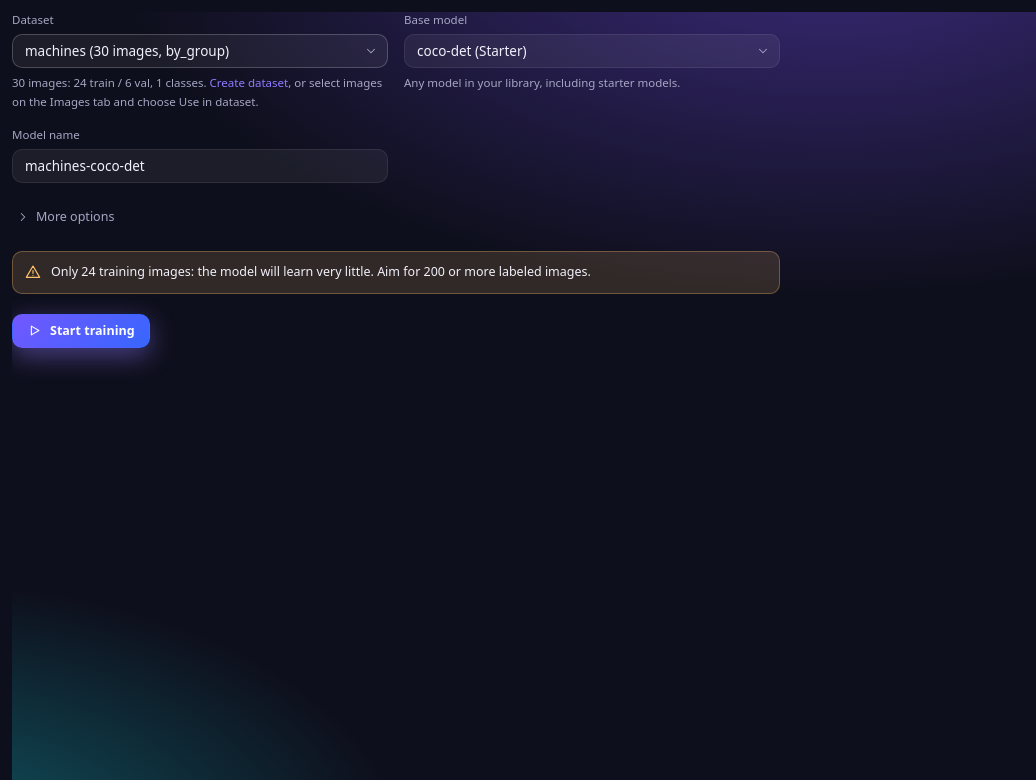
Test: TrainForm › lists only base models of the dataset's task
The width and height of the screenshot is (1036, 780).
Expected: the option "coco-seg" is not shown
Select "cracks (30 images, by_group)" in the dropdown labelled "Dataset" at (200, 51), box [12,34,388,68]
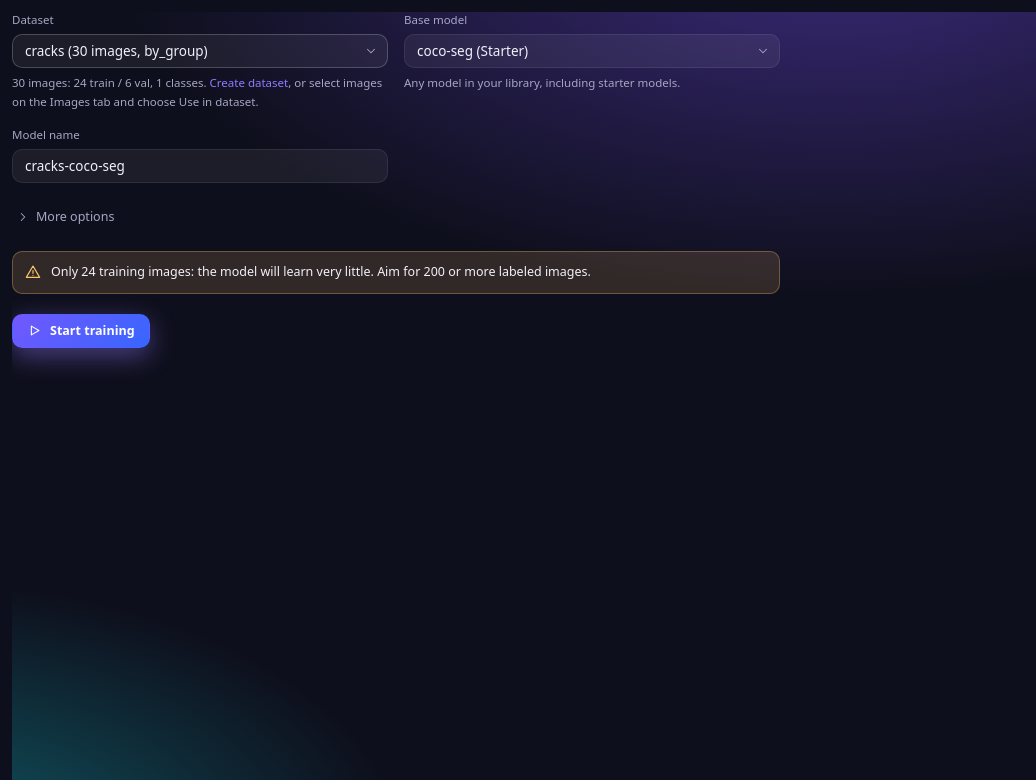
Expected: the option "coco-det" is not shown
Result: the dropdown labelled "Base model" shows "coco-seg (Starter)" at [404,34,780,68]
